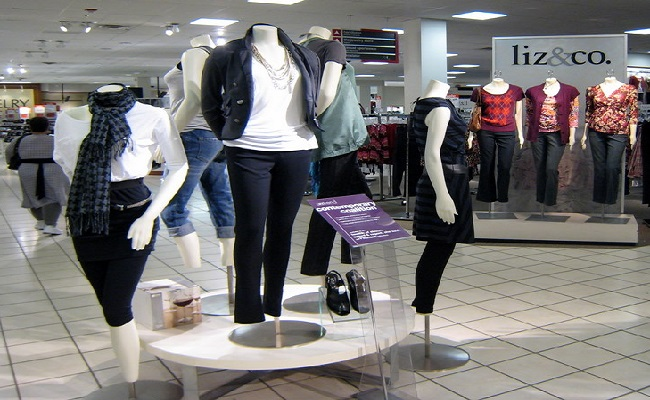person: (5, 112, 63, 240)
person-like: (51, 83, 191, 385), (197, 20, 322, 328), (161, 32, 243, 294), (297, 19, 378, 281), (400, 73, 480, 318), (577, 73, 642, 209), (523, 73, 583, 210), (469, 75, 523, 208)
